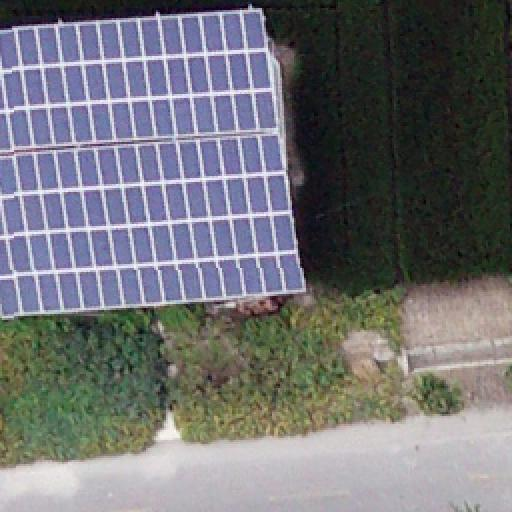solar-panel: (0, 133, 304, 315), (0, 8, 280, 152)
